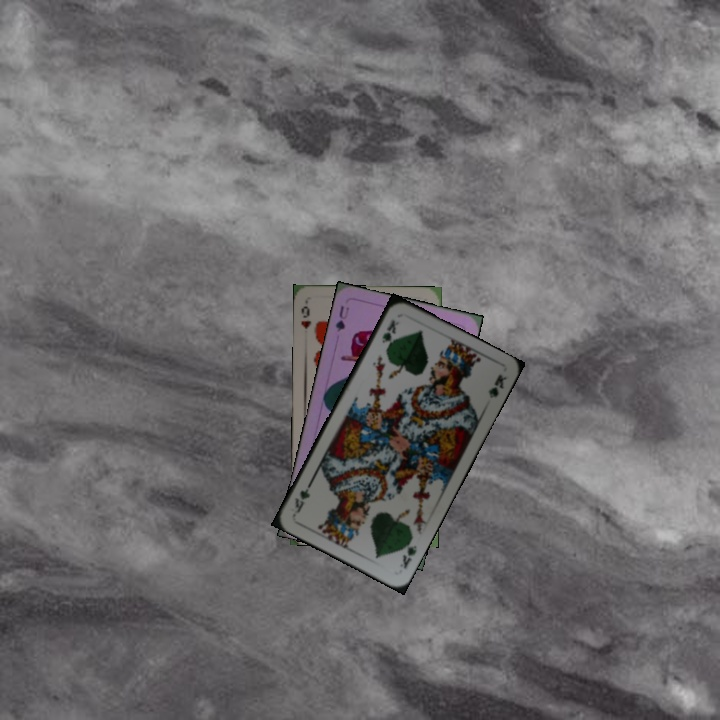GK: (395, 534, 419, 571), (378, 316, 401, 353)
GU: (331, 302, 352, 334)
H9: (297, 302, 314, 332)
